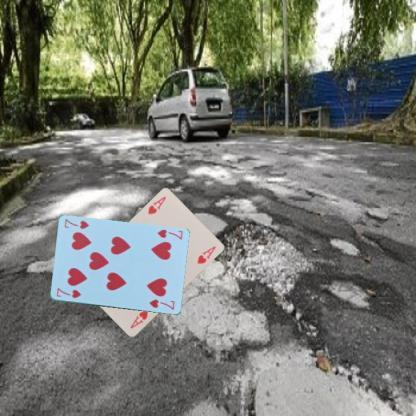7h: (154, 227, 184, 241), (54, 286, 82, 300)
Ah: (145, 193, 168, 216), (127, 308, 150, 330)
